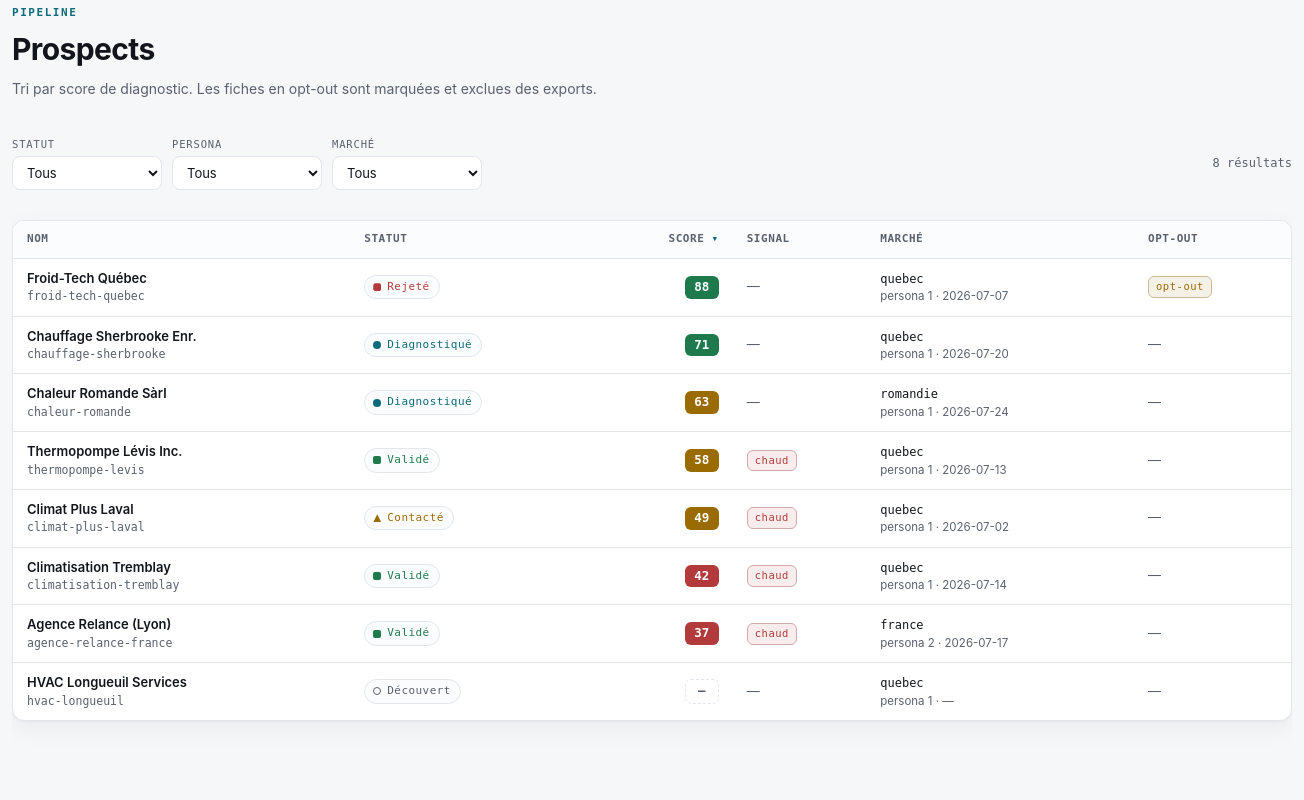
Prospects (table filtrable) › filtre par statut = decouvert
Expected: the text "Climatisation Tremblay" is shown, [27,558,171,574]
Select "Découvert" in the dropdown labelled "Statut" at (87, 173), box [12,156,162,190]
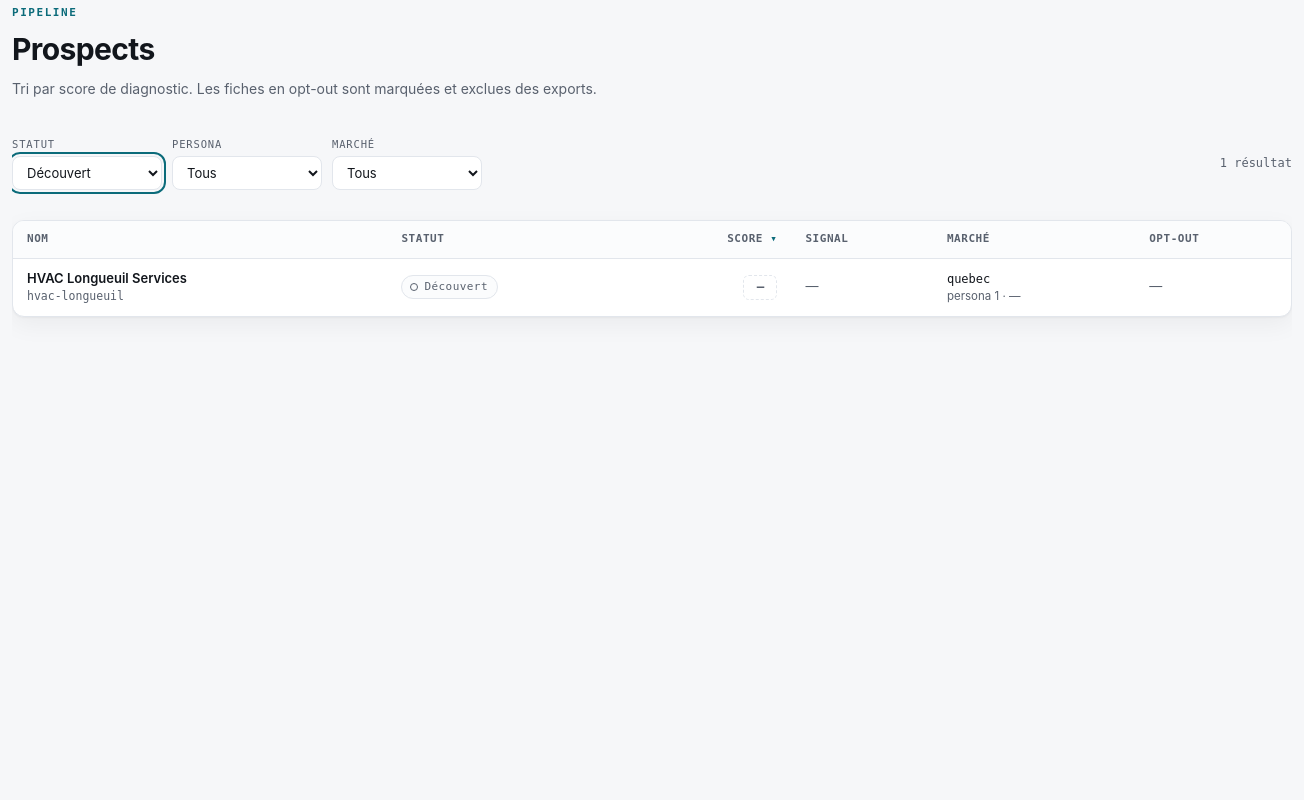
Expected: the text "HVAC Longueuil Services" is shown, [27,270,187,286]
Expected: the text "Climatisation Tremblay" is gone
